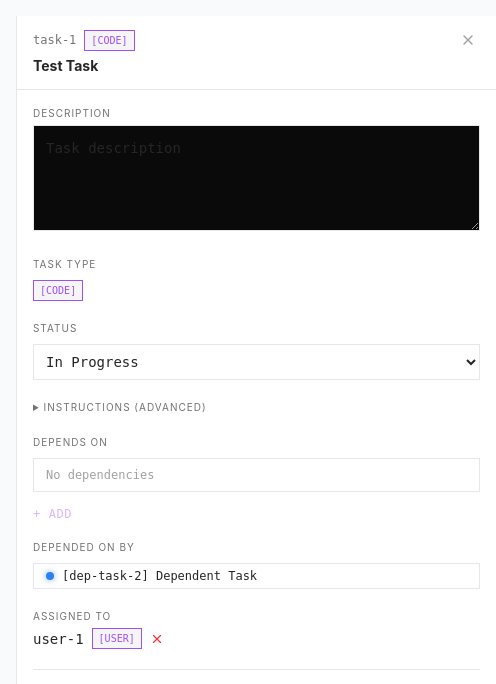
Test: edit mode › enables Save button when a field is changed (dirty detection)
// Change the description
Step 1. Replace the text in the text box with placeholder "Markdown description..." with "Updated description" → (256, 178), box [33,125,480,231]
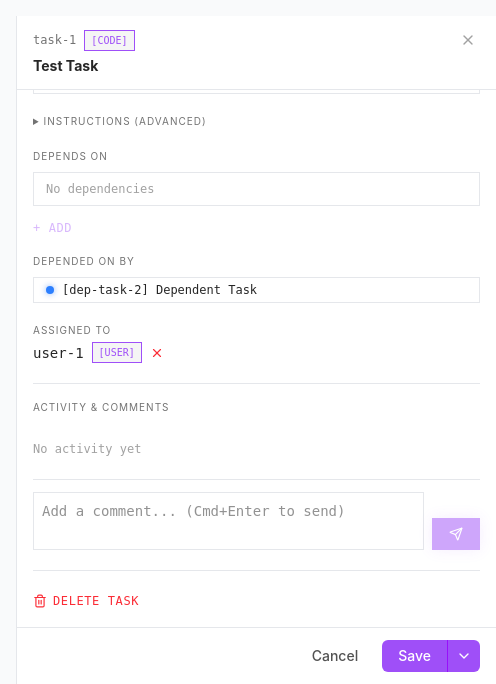
Expected: the button "Save" is enabled, [382,640,447,672]
